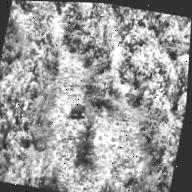boar: (67, 97, 90, 122)
